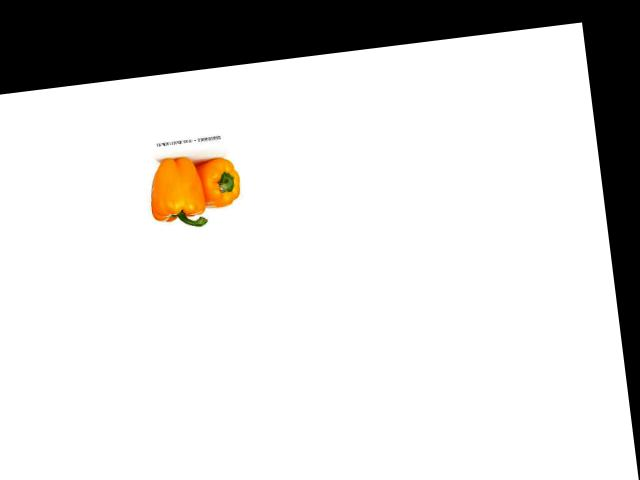bell_pepper: (192, 153, 243, 213)
